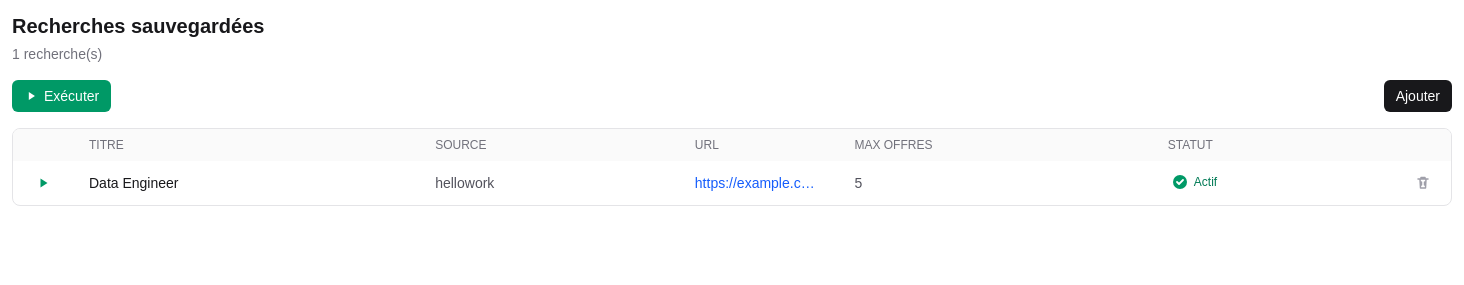
SearchSettingsBrowser › affiche une erreur si l'exécution de l'agent échoue
Check: the text "Data Engineer" is shown, box [73,161,419,205]
Click the button "Exécuter": (62, 96) [12,80,111,112]
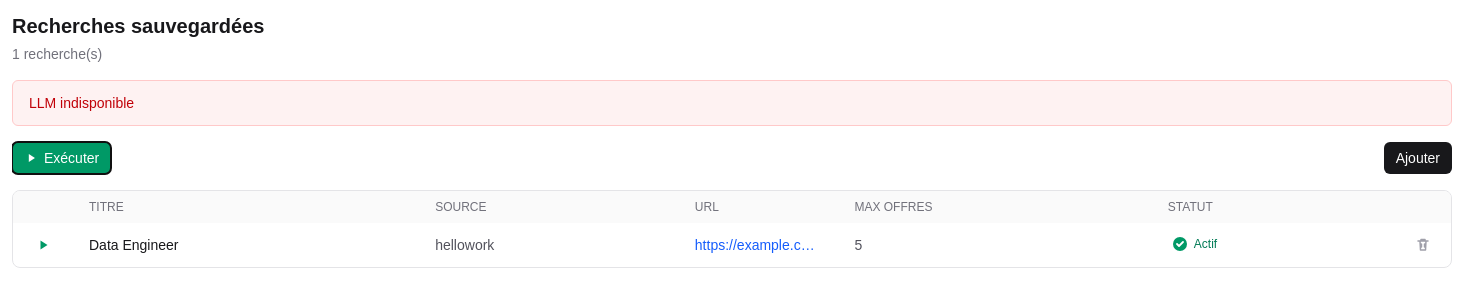
Check: the text "LLM indisponible" is shown, box [12,80,1452,126]
